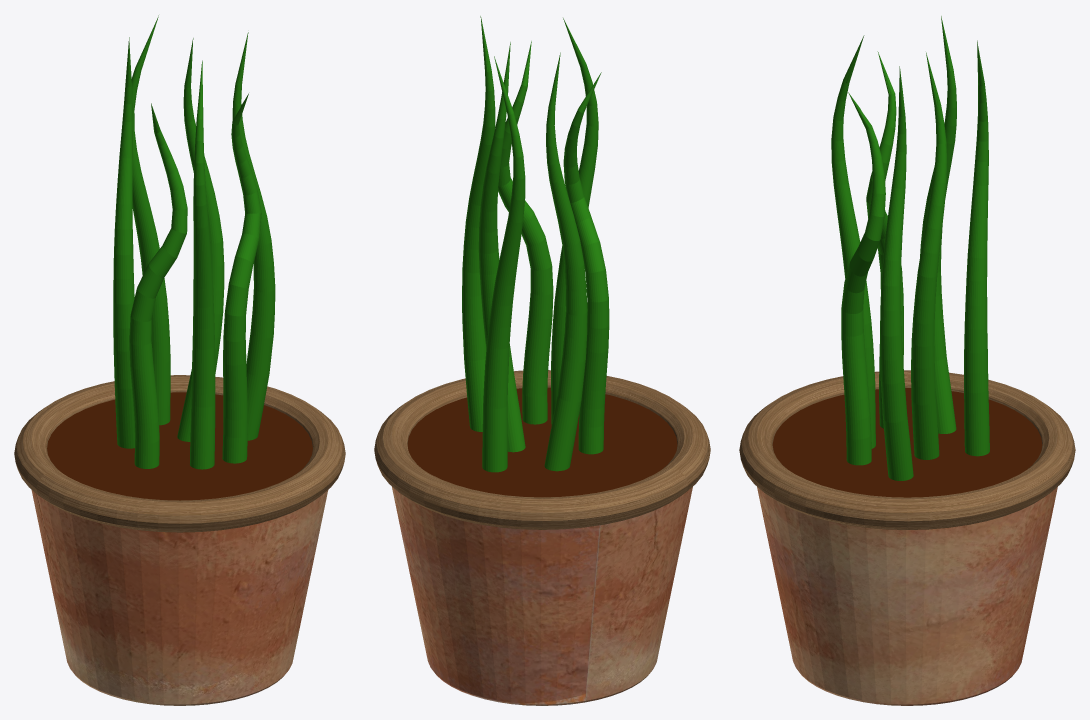
Rendered from matera_y_planta.glb.
3 views of the same model, side by side, from view 1: azimuth 30°, elevation 25°; view 2: azimuth 150°, elevation 25°; view 3: azimuth 270°, elevation 25° (orthographic).
Parts seen in each view (by area): view 1: Cylinder.009; view 2: Cylinder.009; view 3: Cylinder.009.
Boxes of the visible parts, bbox=[...] form: Cylinder.009: bbox=[14, 15, 345, 705]; Cylinder.009: bbox=[374, 16, 710, 705]; Cylinder.009: bbox=[739, 16, 1075, 705].
Bounding box in the file's own units: 1.28 × 2.63 × 1.28.
5 materials, 2 textured.
